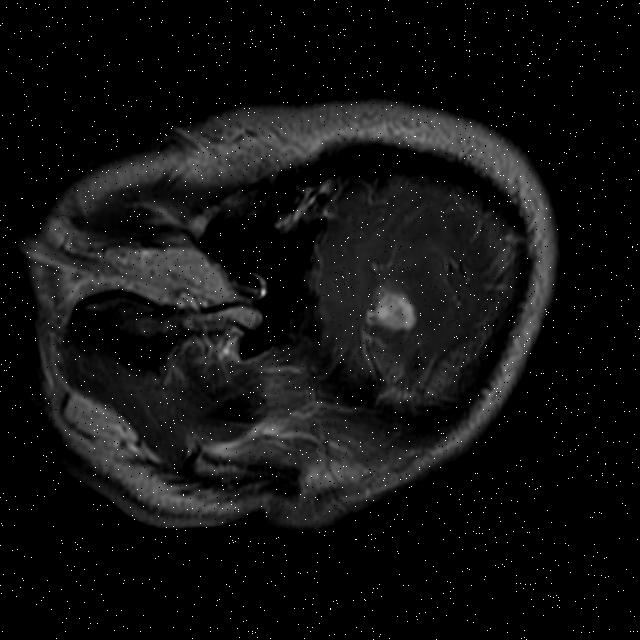Glioma: (372, 289, 419, 330)
